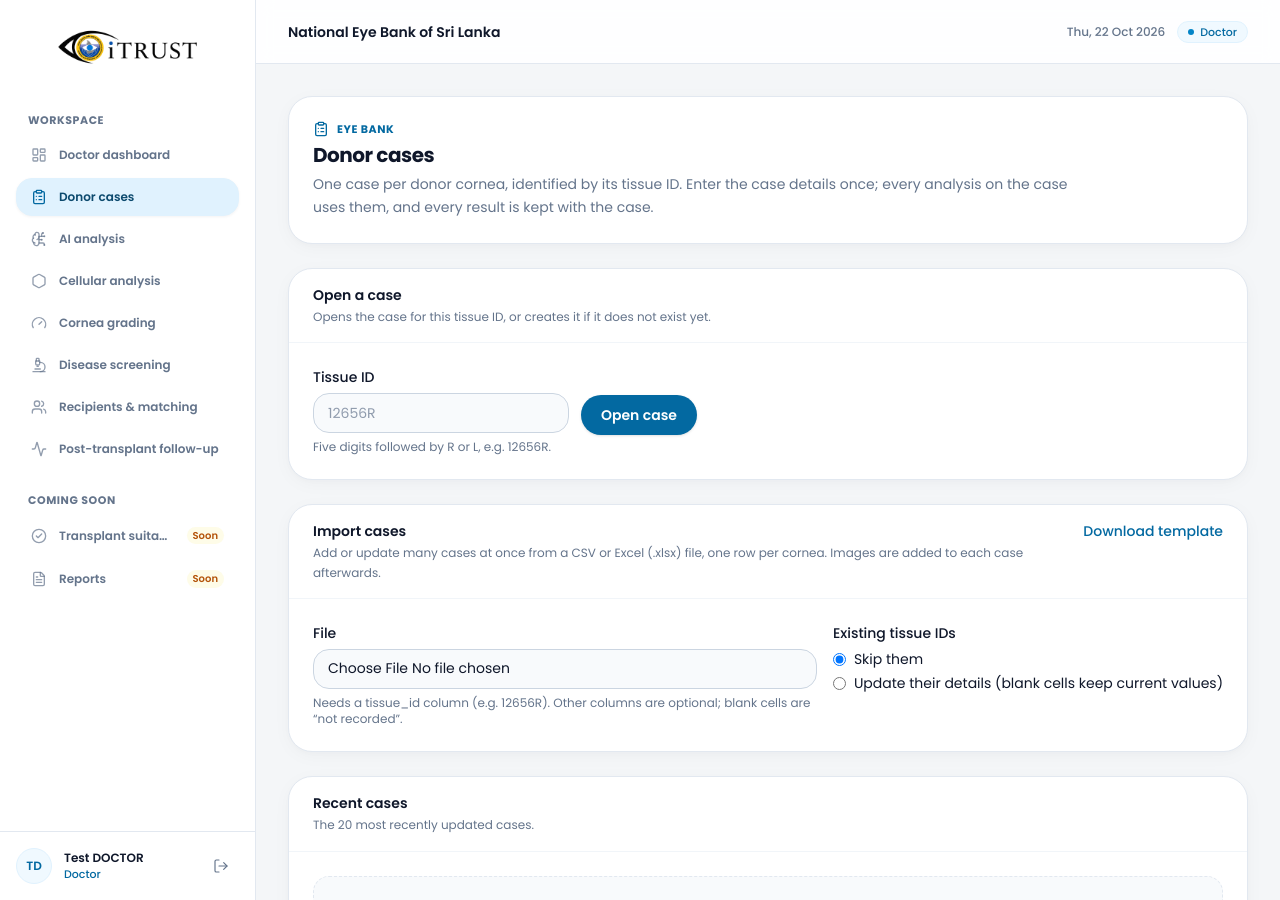
Test: Donor cases › opens the case for a normalised tissue ID and shows its workspace
The image size is (1280, 900).
Type " 12656r " into the field labelled "Tissue ID".
click(441, 413); type(" 12656r ")  # box top-left (313, 393), bottom-right (569, 433)
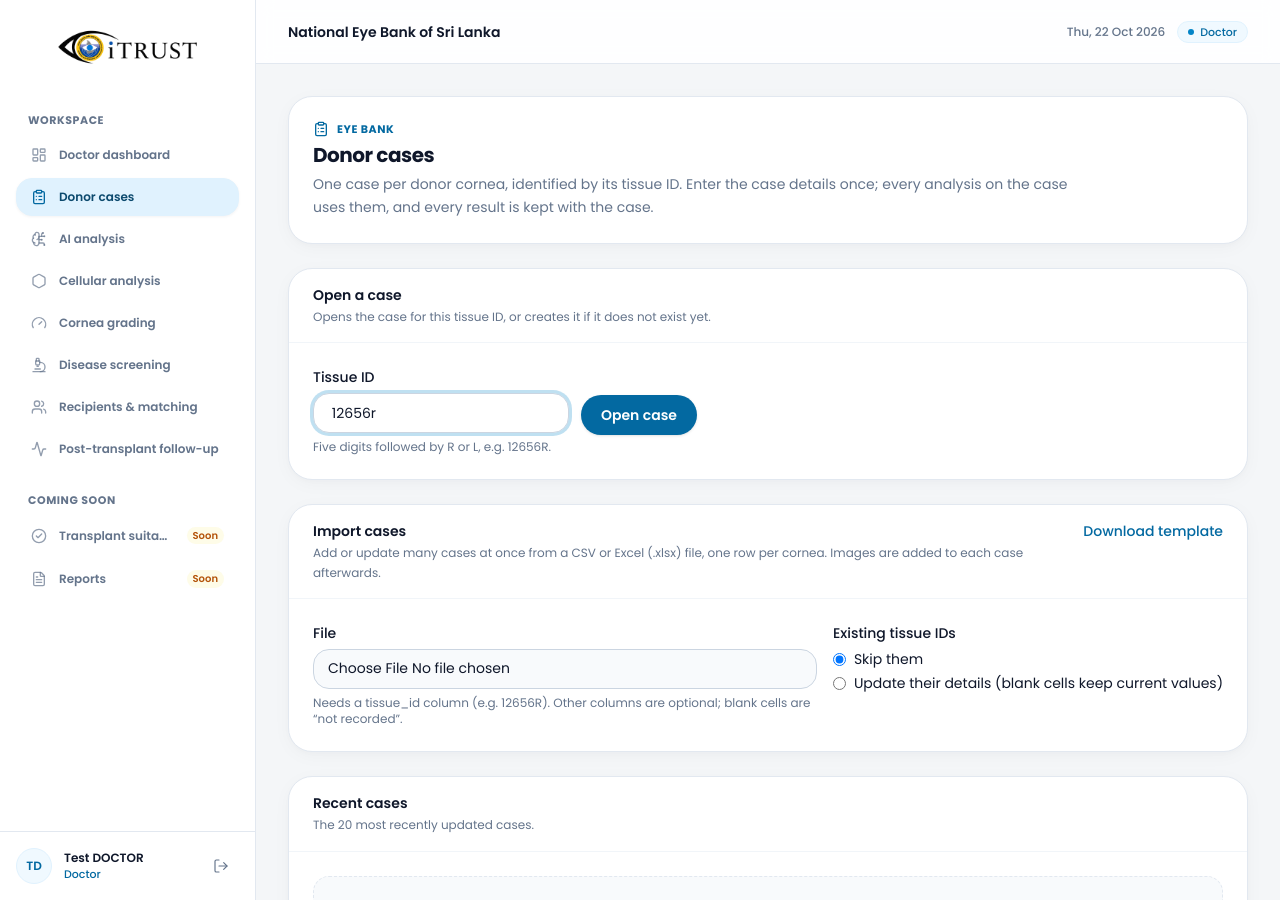
Click the button "Open case".
click(639, 415)  # box top-left (581, 395), bottom-right (697, 435)
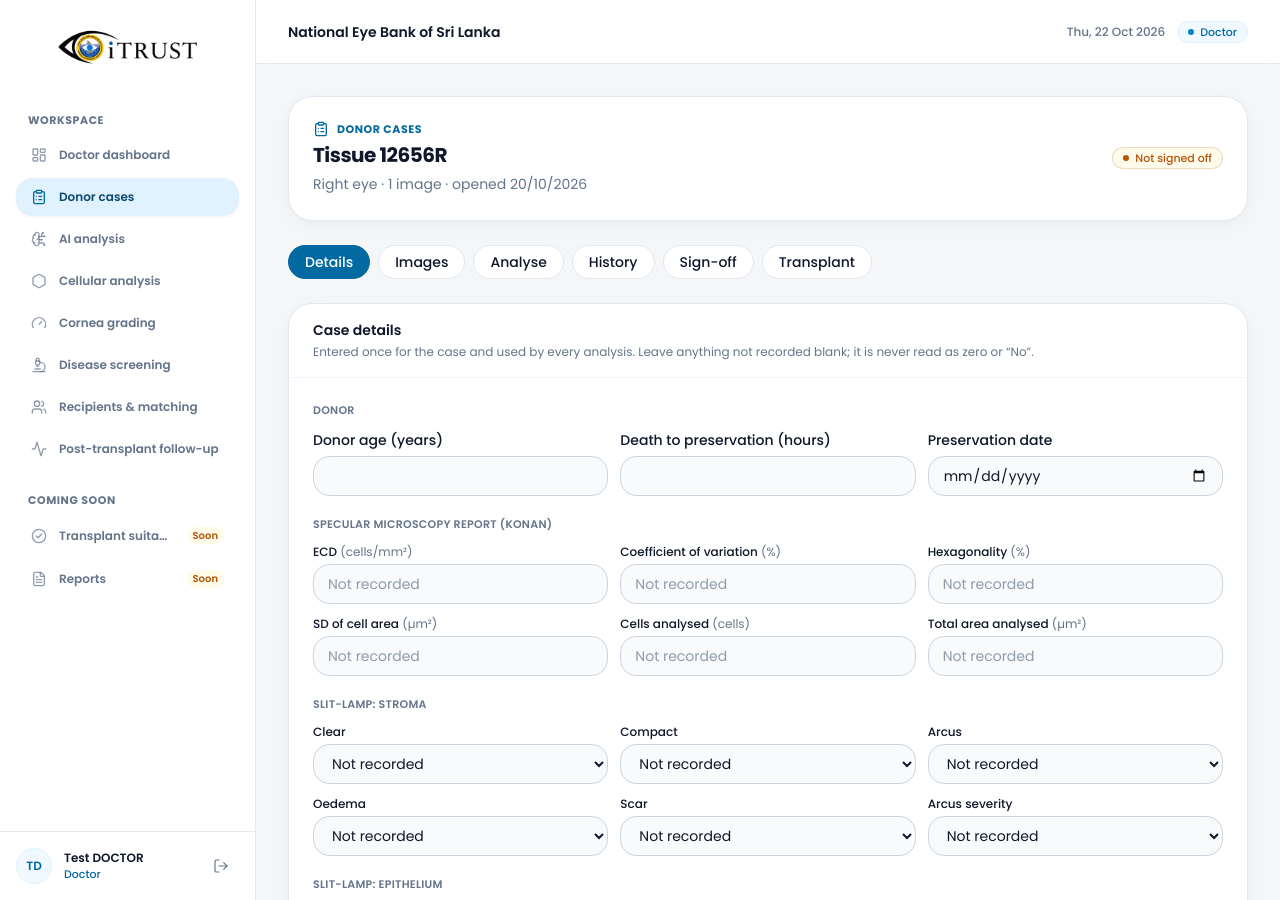
Expected: the heading "Tissue 12656R" is shown, top-left (313, 141), bottom-right (447, 169)
